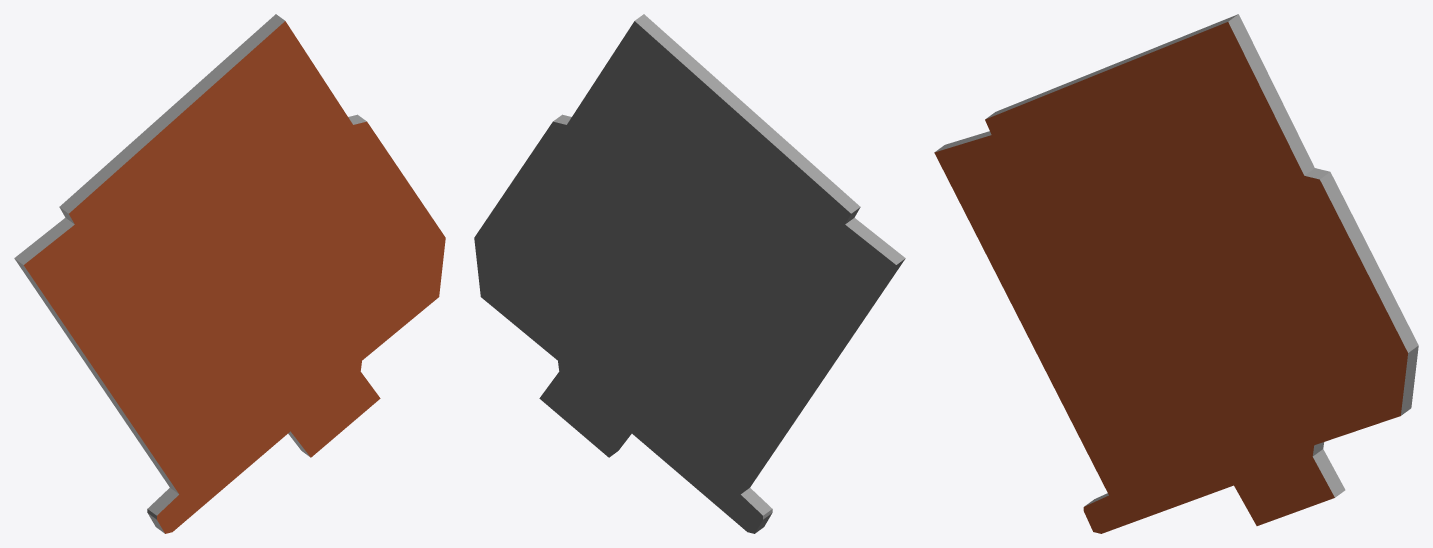
File: construction_0161_assumed_A_Subestacao_h6m.obj
3 renders of one model, left to right at view 1: azimuth 30°, elevation 25°; view 2: azimuth 150°, elevation 25°; view 3: azimuth 330°, elevation 25°, orthographic. The views are drawn at different scales.
Visible parts, largest first — view 1: construction_0161_assumed_A_Subestacao; view 2: construction_0161_assumed_A_Subestacao; view 3: construction_0161_assumed_A_Subestacao.
Boxes of the visible parts, x1,y1,x2,y2 form: construction_0161_assumed_A_Subestacao: (14,14,445,533); construction_0161_assumed_A_Subestacao: (474,14,905,533); construction_0161_assumed_A_Subestacao: (934,14,1418,533).
Bounding box in the file's own units: 155 × 170 × 6.
